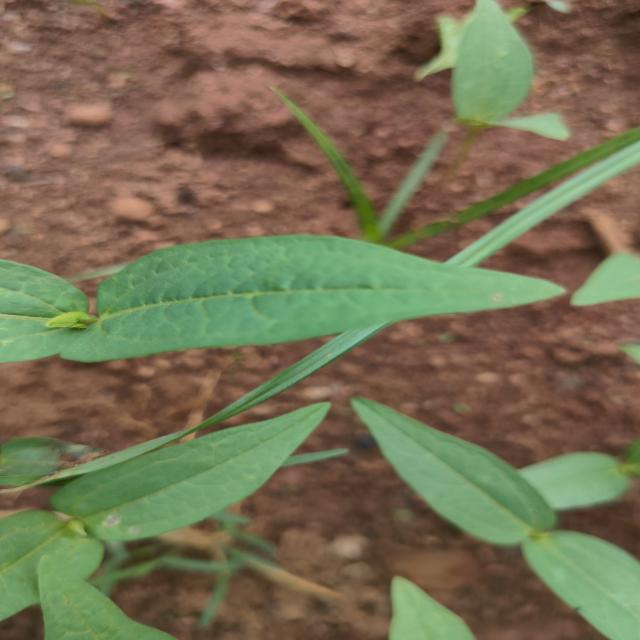Black gram_healthy: (68, 230, 565, 356), (51, 403, 326, 538), (349, 398, 553, 542)
